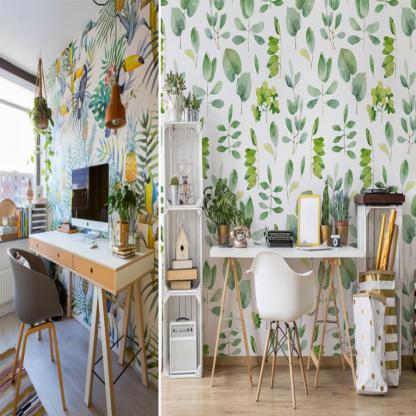table: (24, 225, 156, 415), (207, 242, 367, 396)
